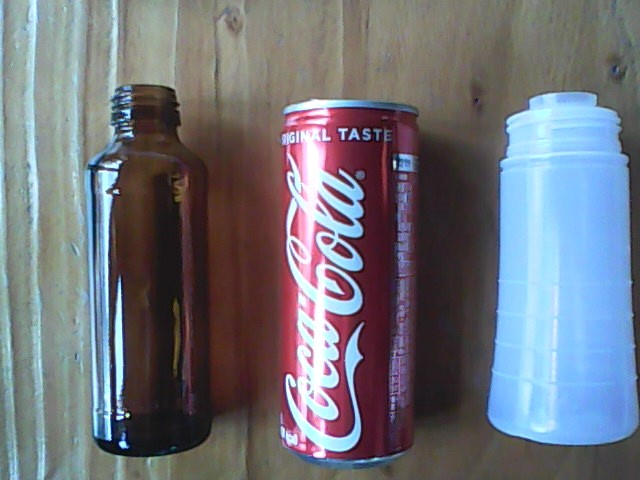Can: (278, 97, 421, 470)
Glass: (78, 82, 215, 460)
Plastic: (477, 86, 640, 448)
